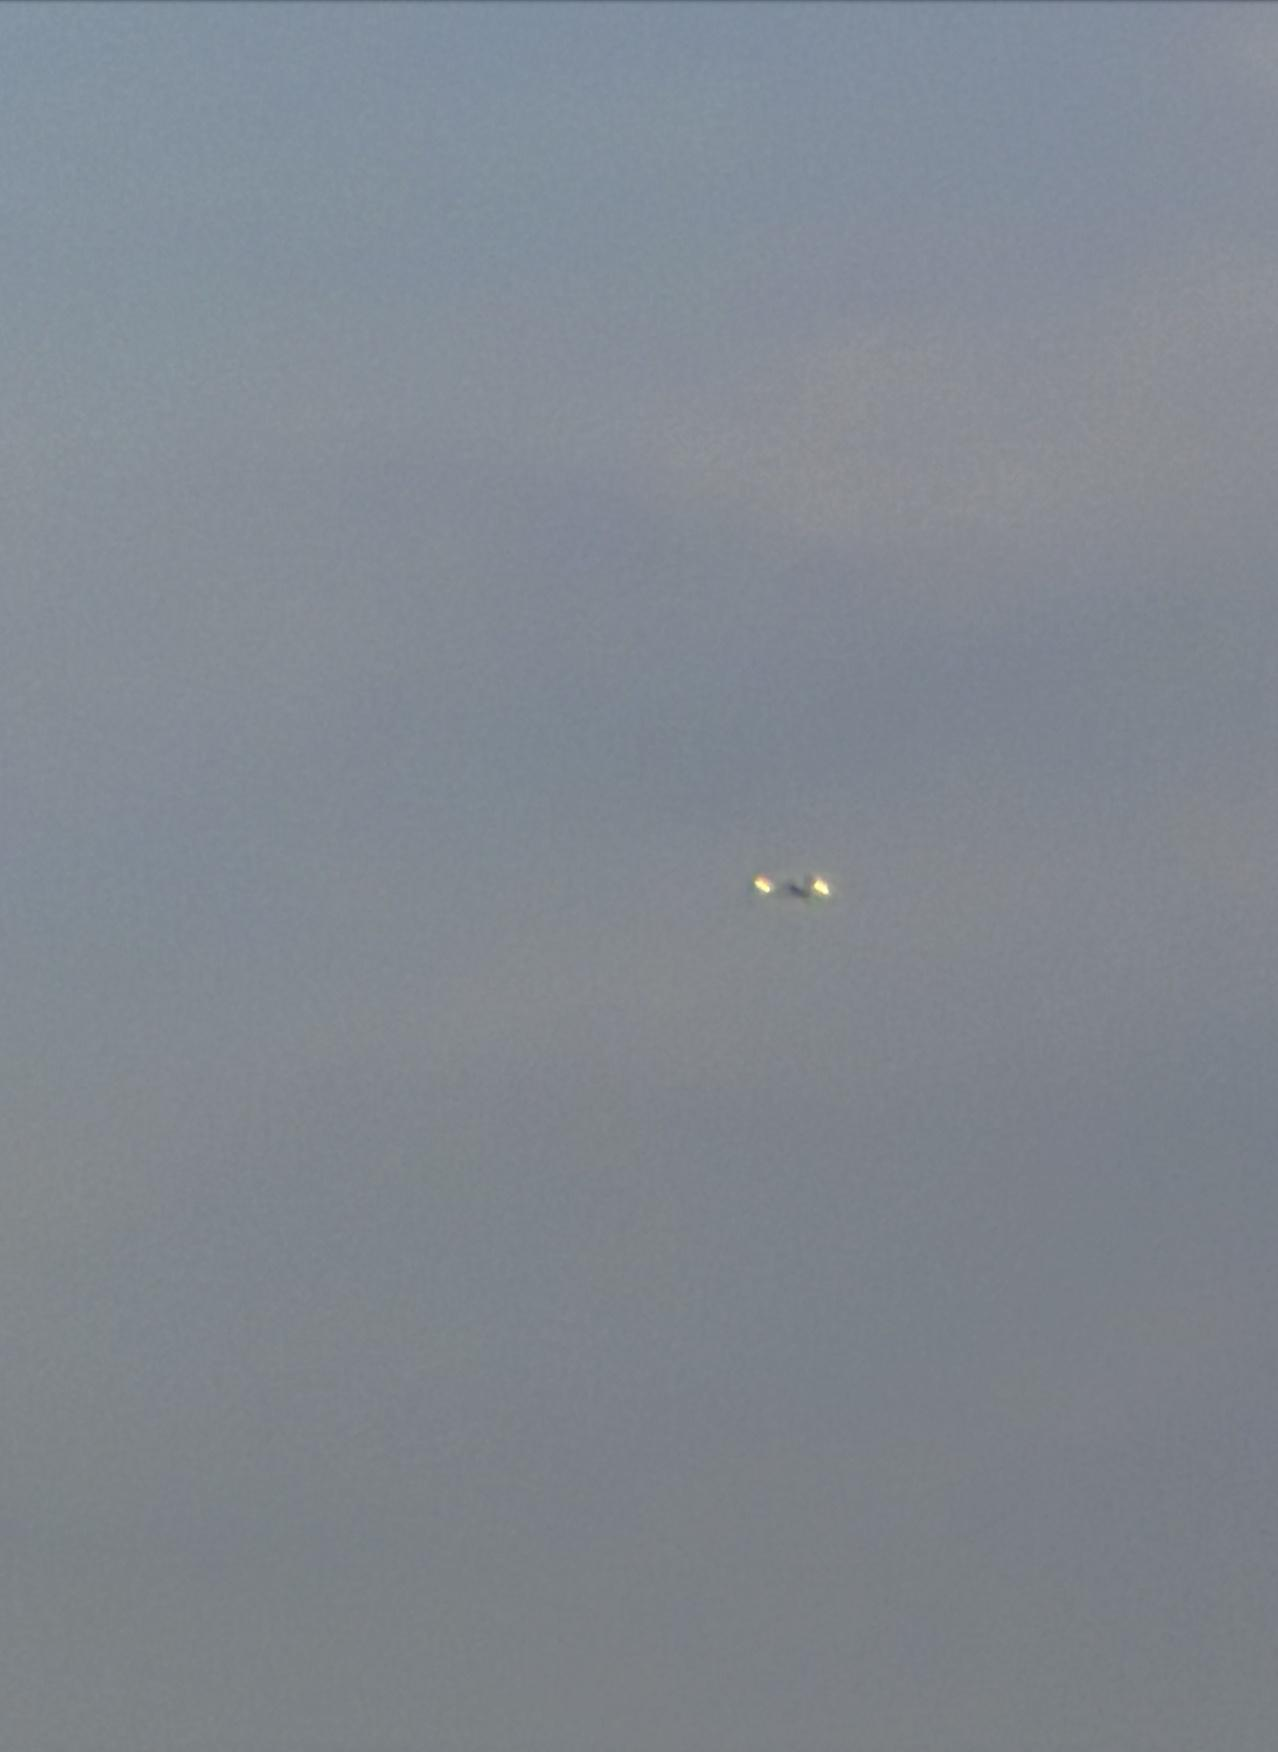Plane: (716, 835, 866, 940)
